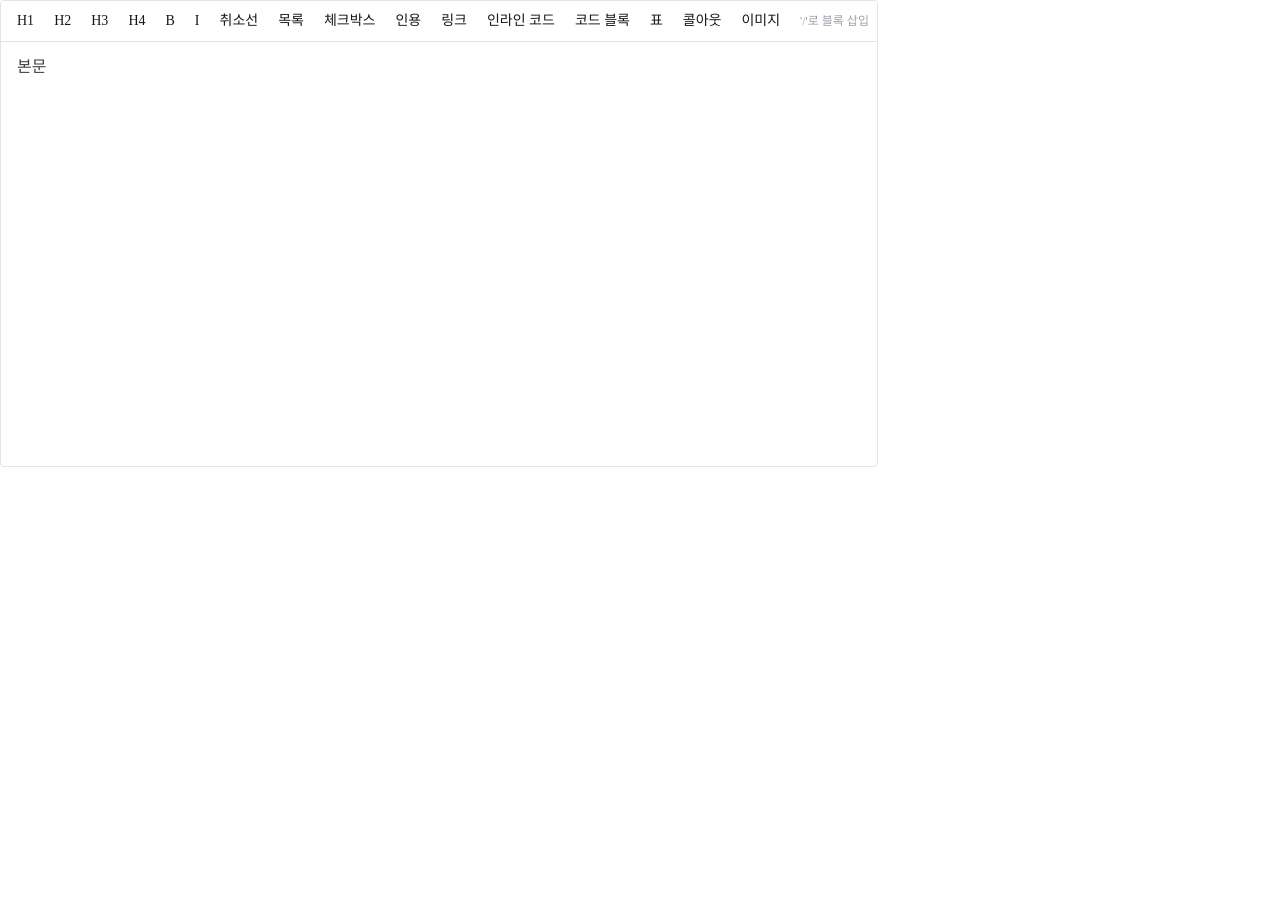
Scenario: 링크 주소 팝업: 적용 › 새 링크: 고른 글자가 없으면 입력한 주소 자체가 링크 글자로 들어간다
Expected: the field labelled "본문" is shown, [17, 58, 46, 75]
Step 1. Click the button "링크" → (454, 21), box [433, 7, 475, 35]
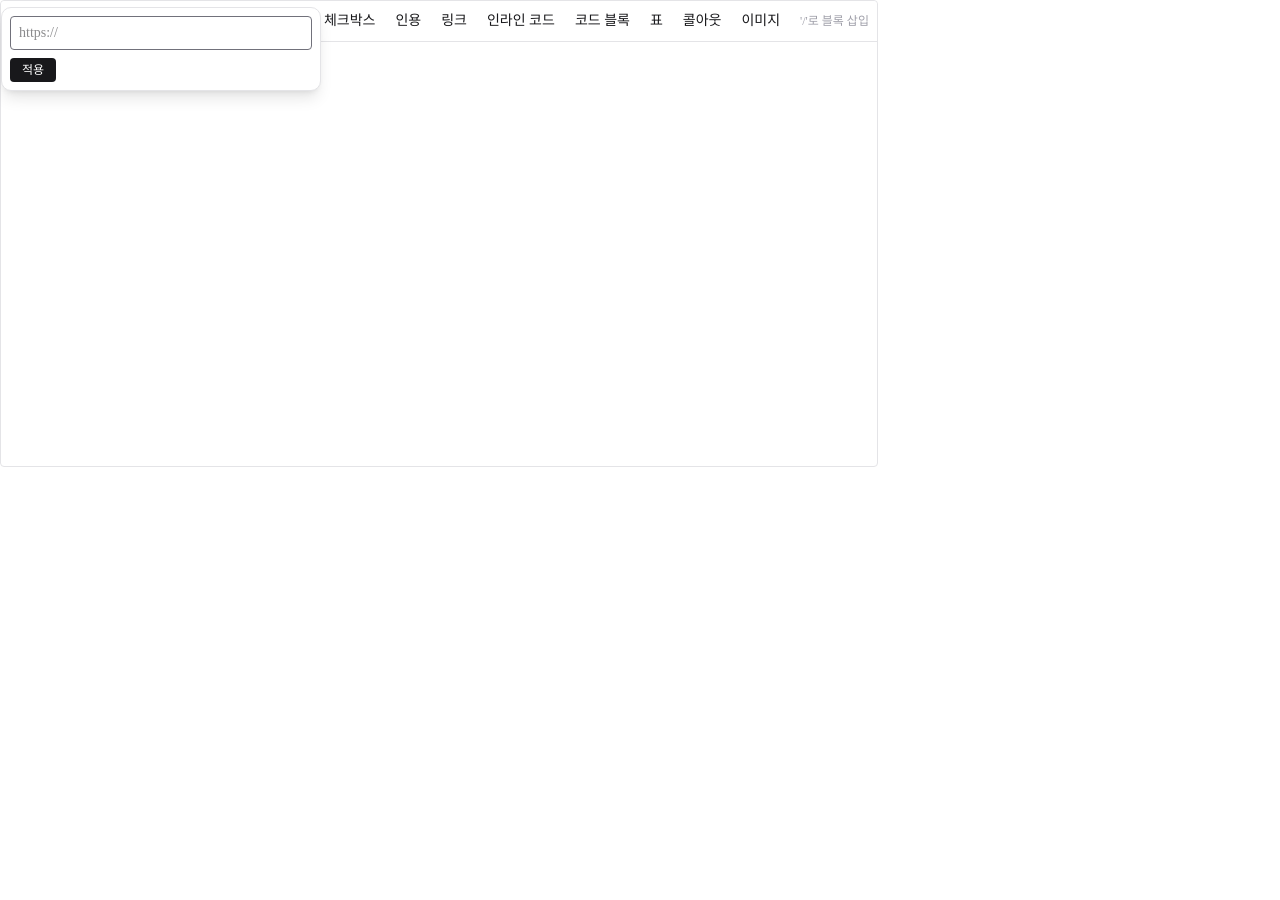
Step 2. Type "https://c.com" into the field named "링크 주소" → (161, 33), box [10, 16, 312, 50]
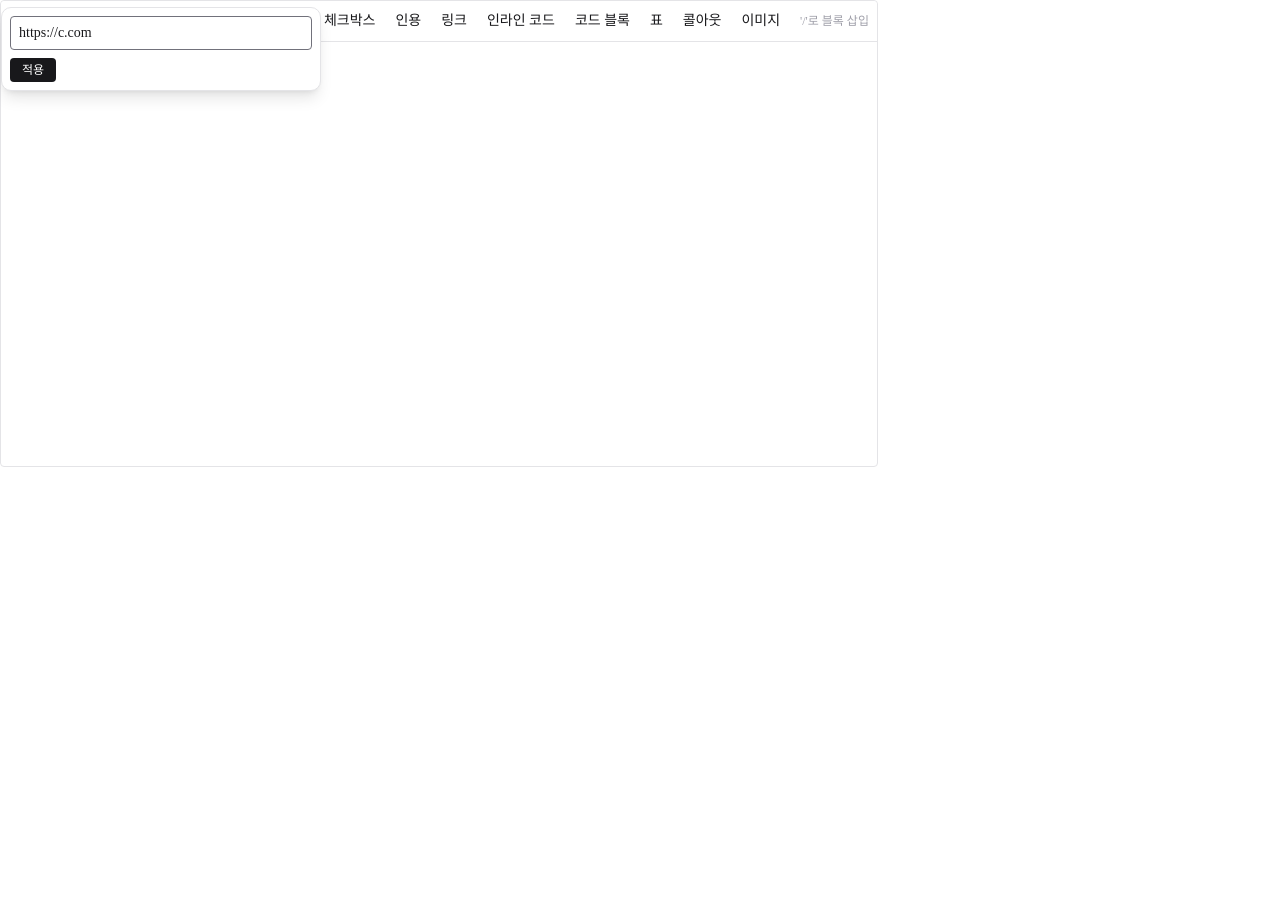
Step 3. Click the button "적용" → (33, 70), box [10, 58, 56, 82]
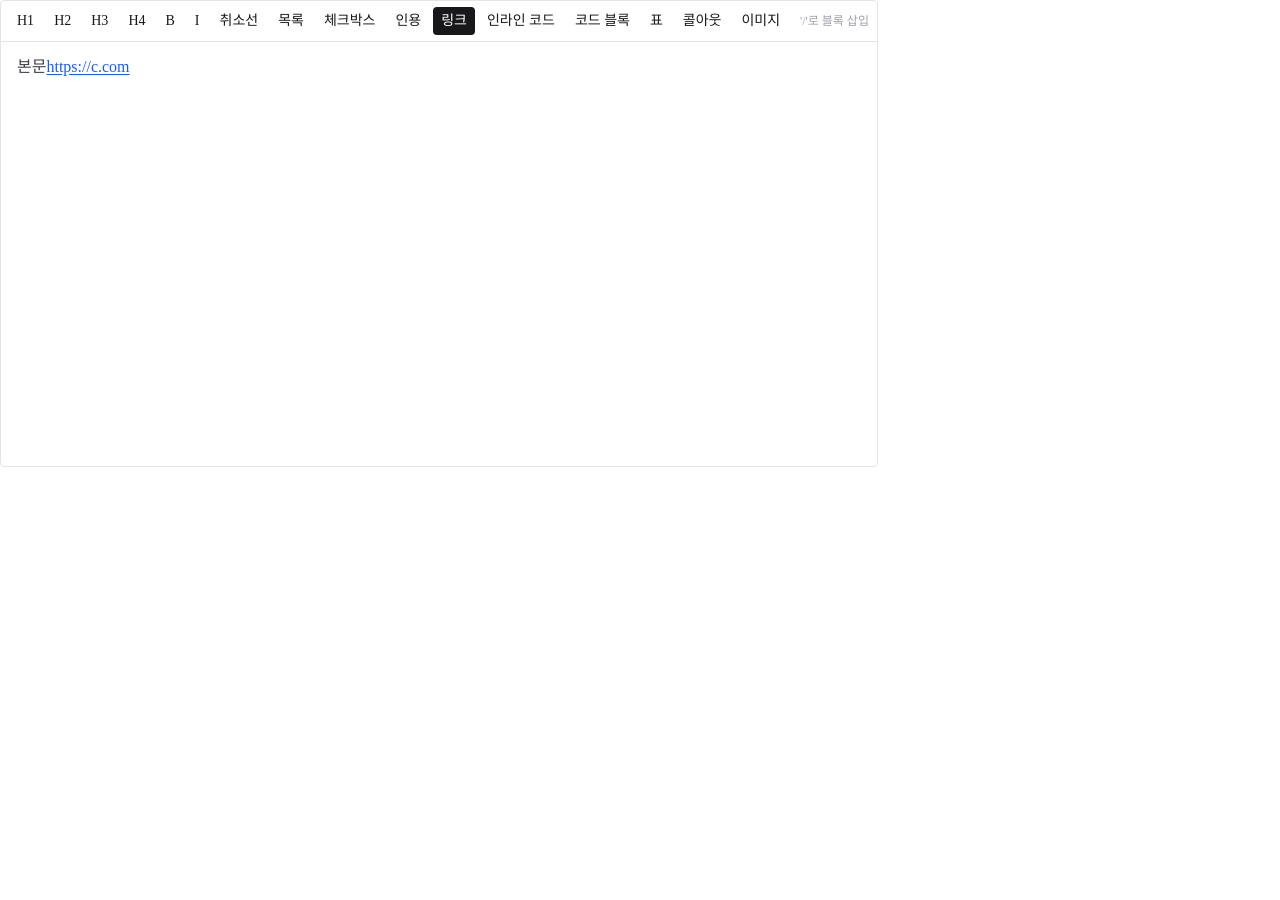
Expected: the link "https://c.com" is shown, [46, 58, 130, 75]
